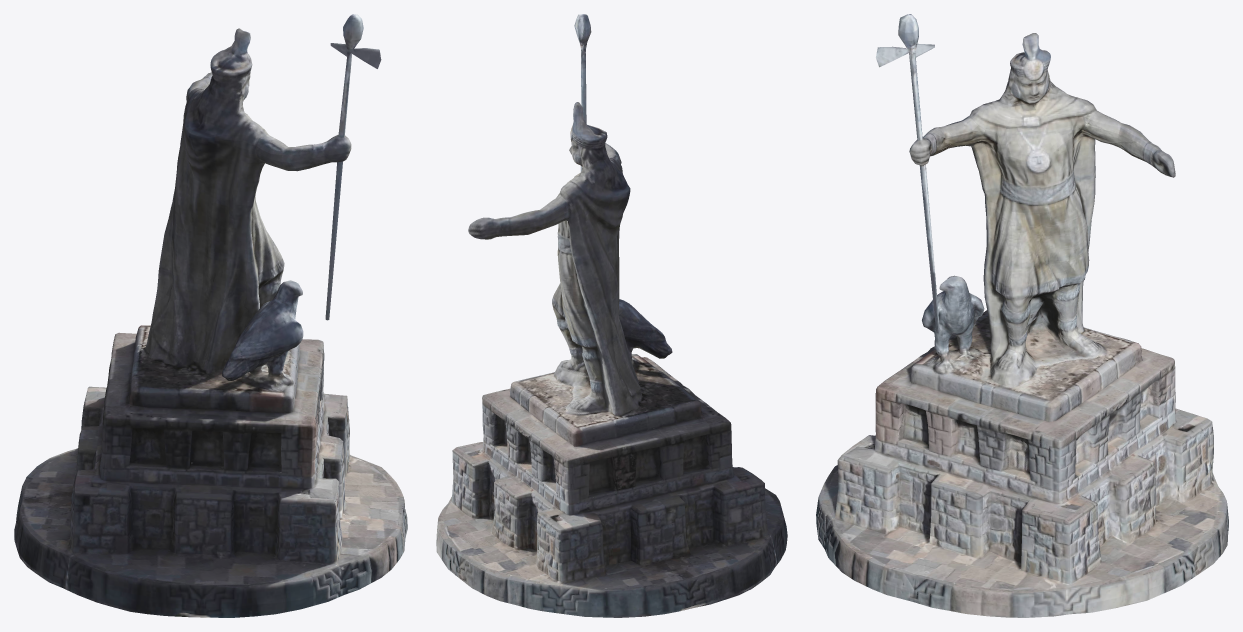
Rendered from mdl_franch_incastatue.gltf.
3 views of the same model, side by side, from view 1: azimuth 30°, elevation 25°; view 2: azimuth 150°, elevation 25°; view 3: azimuth 270°, elevation 25° (orthographic). The views are drawn at different scales.
Visible parts, largest first — view 1: Box001_01 - Default_0; view 2: Box001_01 - Default_0; view 3: Box001_01 - Default_0.
Part boxes in pixels (box(x1,y1,x2,y2)): Box001_01 - Default_0: box(14, 14, 407, 617); Box001_01 - Default_0: box(436, 14, 787, 617); Box001_01 - Default_0: box(816, 14, 1228, 617).
Bounding box in the file's own units: 80.12 × 119 × 79.76.
1 material, 1 textured.
